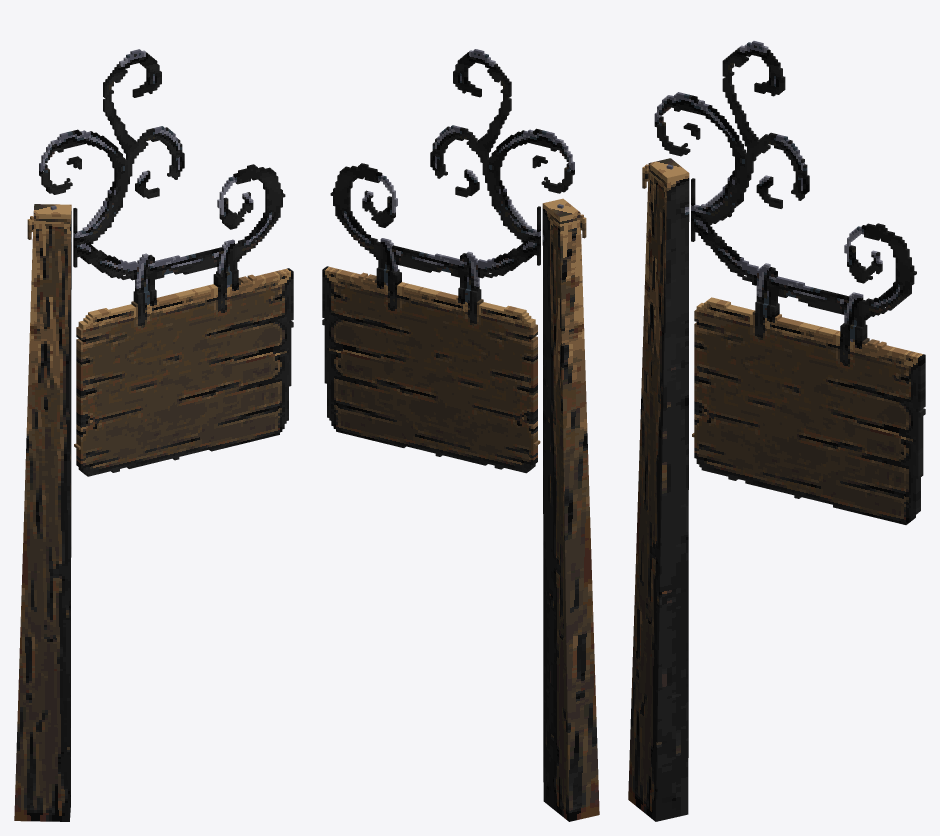
The model's file is signpost.glb.
The picture shows the model from 3 angles, left to right: view 1: azimuth 30°, elevation 25°; view 2: azimuth 150°, elevation 25°; view 3: azimuth 330°, elevation 25°; orthographic projection. The views are drawn at different scales.
Visible parts, largest first — view 1: signpost-212-5; view 2: signpost-212-5; view 3: signpost-212-5.
Boxes of the visible parts, x1,y1,x2,y2 form: signpost-212-5: (14,49,293,821); signpost-212-5: (322,49,599,821); signpost-212-5: (628,41,925,821).
Bounding box in the file's own units: 1.5 × 3.83 × 0.2785.
Materials: 1 (1 with a texture image).
